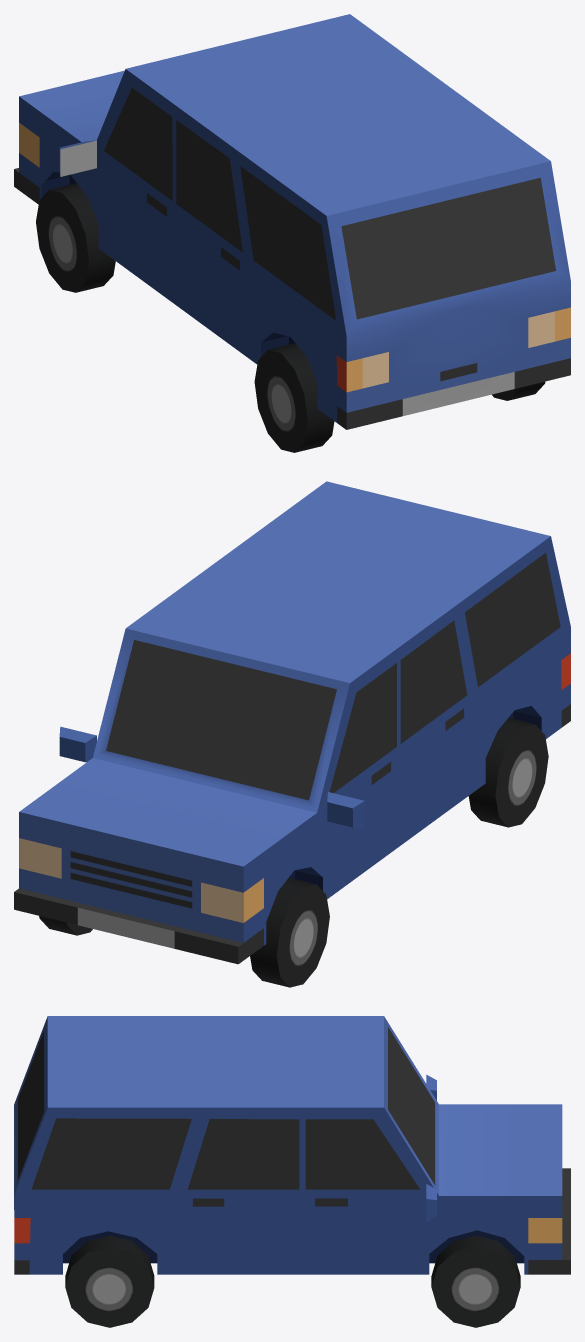
File: longCarBlue.glb
3 renders of one model, top to bottom at view 1: azimuth 30°, elevation 25°; view 2: azimuth 150°, elevation 25°; view 3: azimuth 270°, elevation 25°, orthographic. The views are drawn at different scales.
Visible parts, largest first — view 1: station_wagon_blue_seperate_prefab, station_wagon_rl_wheel, station_wagon_fl_wheel; view 2: station_wagon_blue_seperate_prefab, station_wagon_fl_wheel, station_wagon_rl_wheel; view 3: station_wagon_blue_seperate_prefab, station_wagon_fr_wheel, station_wagon_lr_wheel.
Boxes of the visible parts, box(x1,y1,x2,y2) form: station_wagon_blue_seperate_prefab: box(14, 14, 570, 429); station_wagon_rl_wheel: box(254, 343, 334, 452); station_wagon_fl_wheel: box(36, 183, 115, 292); station_wagon_blue_seperate_prefab: box(14, 481, 570, 964); station_wagon_fl_wheel: box(250, 878, 329, 987); station_wagon_rl_wheel: box(468, 718, 548, 827); station_wagon_blue_seperate_prefab: box(14, 1016, 570, 1274); station_wagon_fr_wheel: box(431, 1235, 520, 1327); station_wagon_lr_wheel: box(65, 1235, 154, 1327).
Bounding box in the file's own units: 3.44 × 2.8 × 6.52.
Materials: 1 (1 with a texture image).
